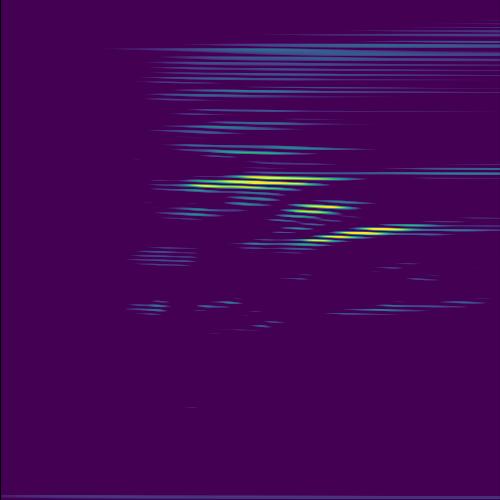semblance: (166, 170, 356, 197), (291, 220, 430, 249), (272, 198, 369, 226)
